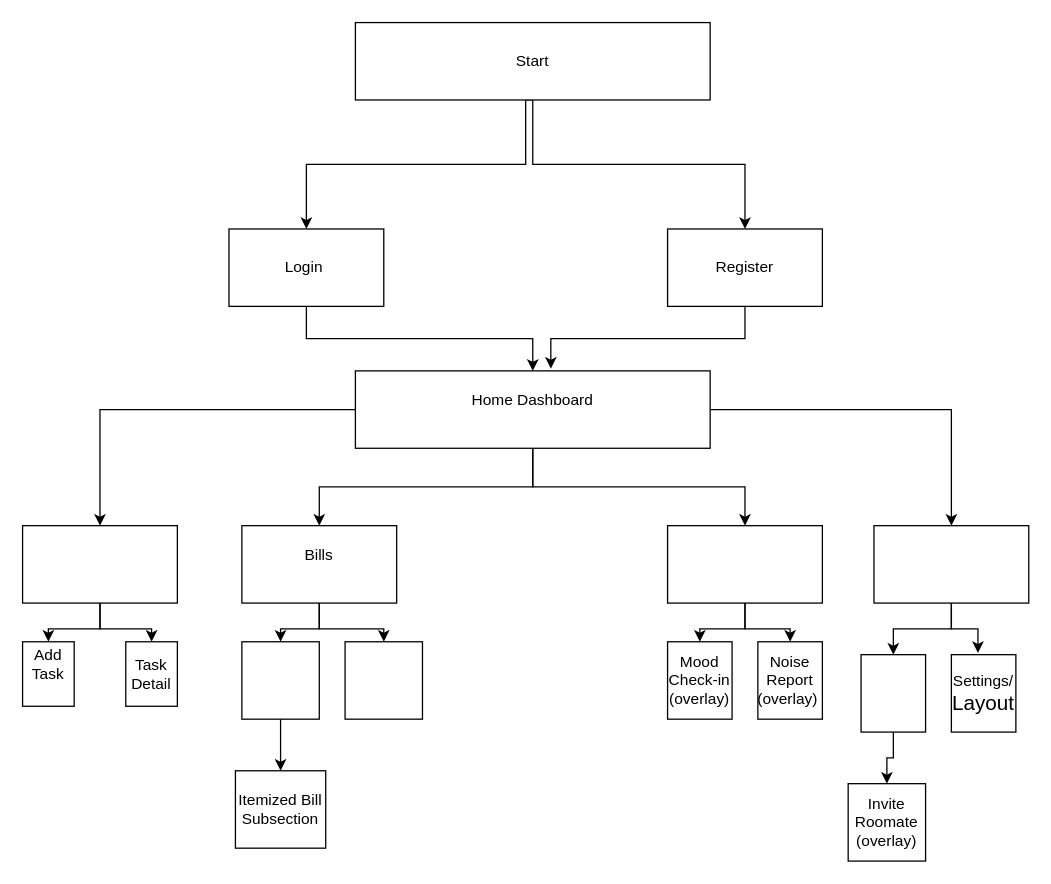
This 1051x884 diagram has some shape labels left out. Here are the shapes that lost their labels. From the top down, the centre of each, then its label:
the point at 99,563: Tasks
the point at 744,563: Mood & Noise Tracker
the point at 951,563: Profile
the point at 280,679: Add Bill (overlay)
the point at 383,679: Bill Summary
the point at 893,692: Edit Profile
